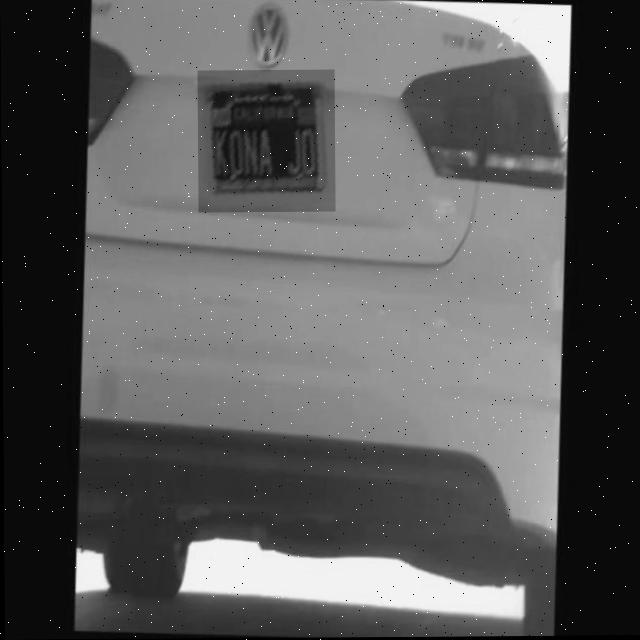LicensePlate: (197, 70, 335, 213)
